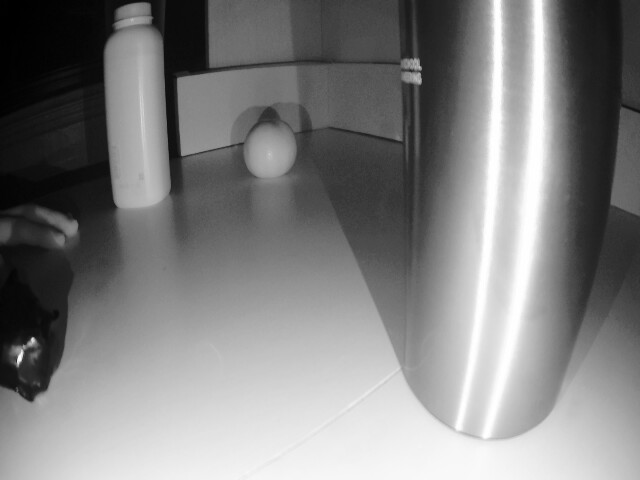silver: (0, 272, 61, 393)
